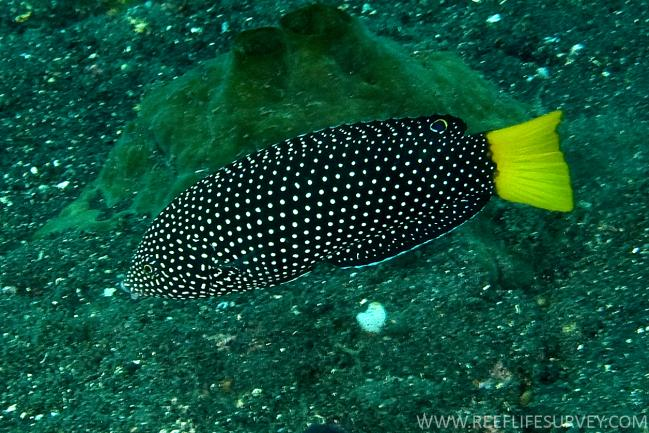fish: (119, 113, 576, 301)
